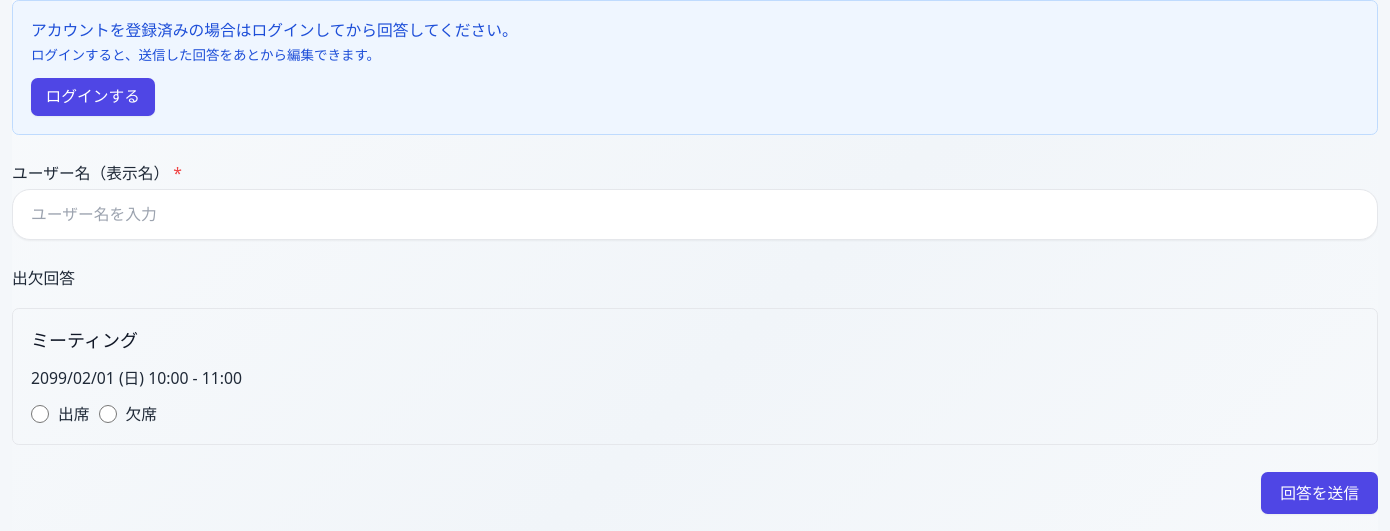
Test: SurveyResponseForm › errors that logging in would resolve › should offer a login link when the name has already responded
Type "ゲスト" into the field labelled "ユーザー名（表示名） *" at (695, 214), box [12,188,1378,240]
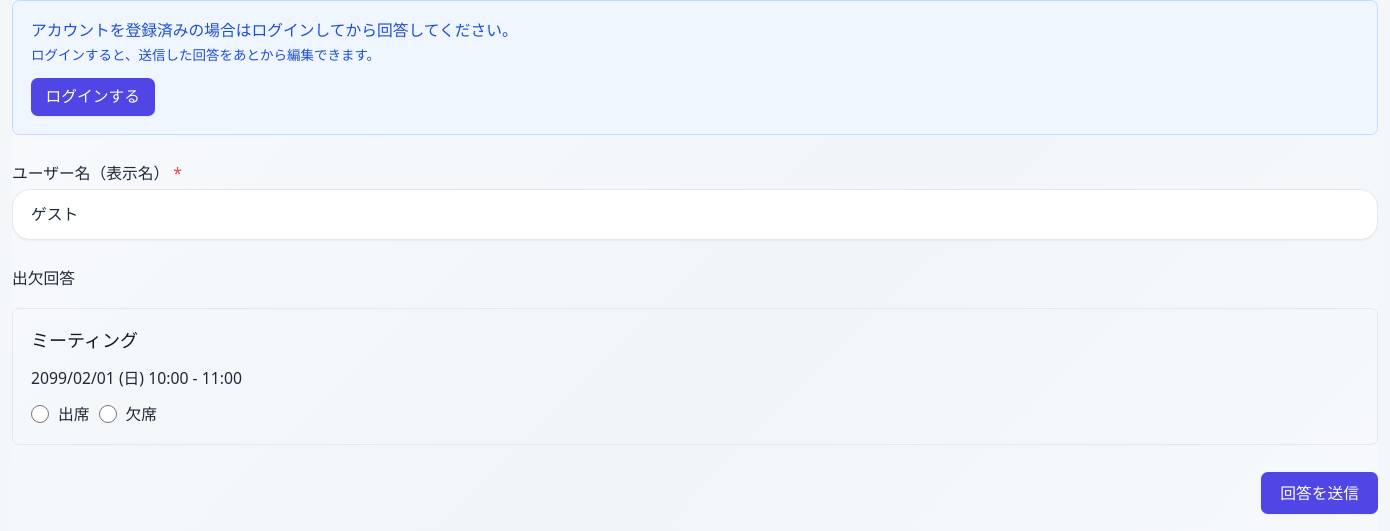
Click the button "回答を送信" at (1320, 493), box [1261,472,1378,514]
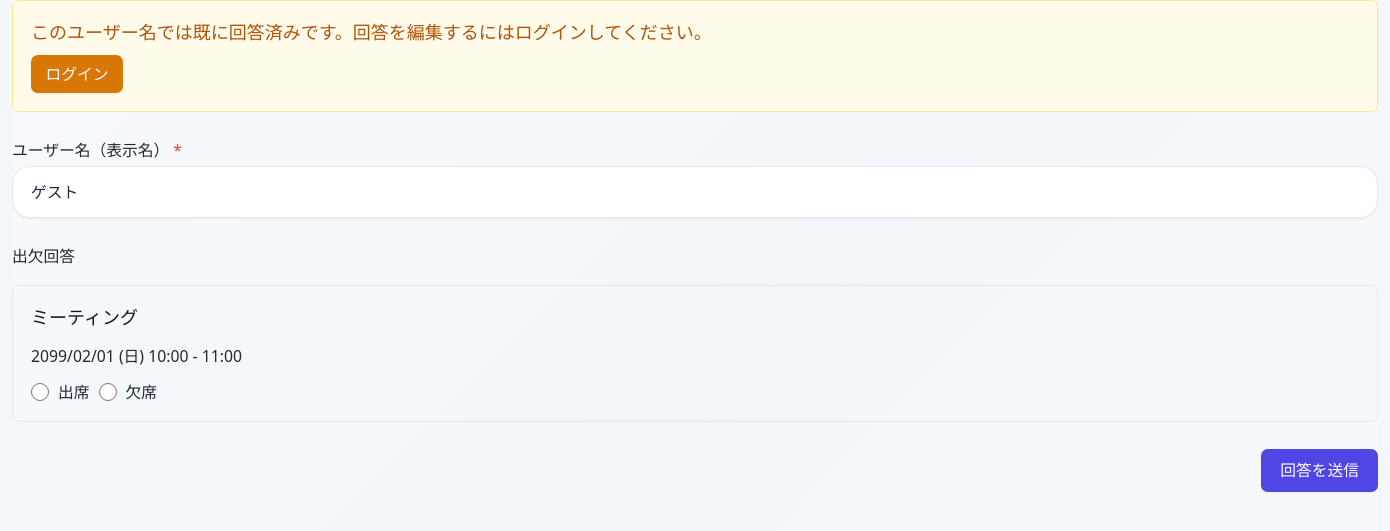
expect the text "このユーザー名では既に回答済みです。回答を編集するにはログインしてください。" is shown: met, box [31,20,712,44]
